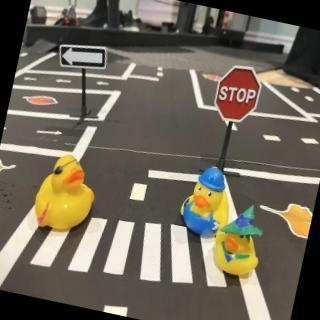duck_regular: (207, 200, 270, 283)
duck_specialty: (30, 150, 103, 239), (177, 163, 240, 243)
road_crosswalk: (28, 192, 241, 308)
road_oneway: (34, 122, 64, 142), (21, 73, 41, 88), (55, 75, 75, 87), (93, 79, 111, 90)
sign_oneway_left: (57, 38, 112, 78)
sign_stop: (211, 62, 266, 132)
